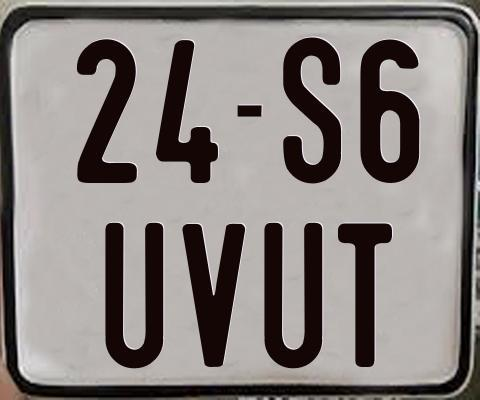2: (75, 37, 136, 185)
4: (156, 40, 222, 189)
6: (358, 36, 420, 185)
S: (281, 35, 340, 184)
T: (338, 223, 394, 369)
U: (103, 221, 165, 369), (263, 223, 323, 371)
V: (180, 221, 244, 369)
